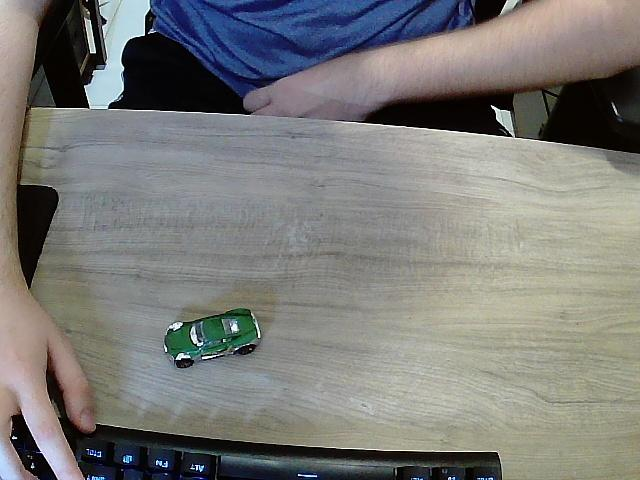Carro: (164, 308, 261, 369)
